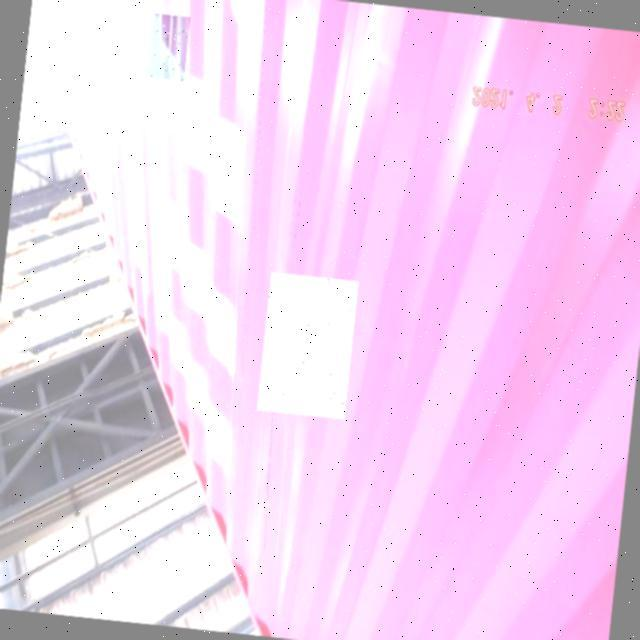Dent: (257, 272, 359, 419)
Minor-Dent: (148, 13, 190, 80)
